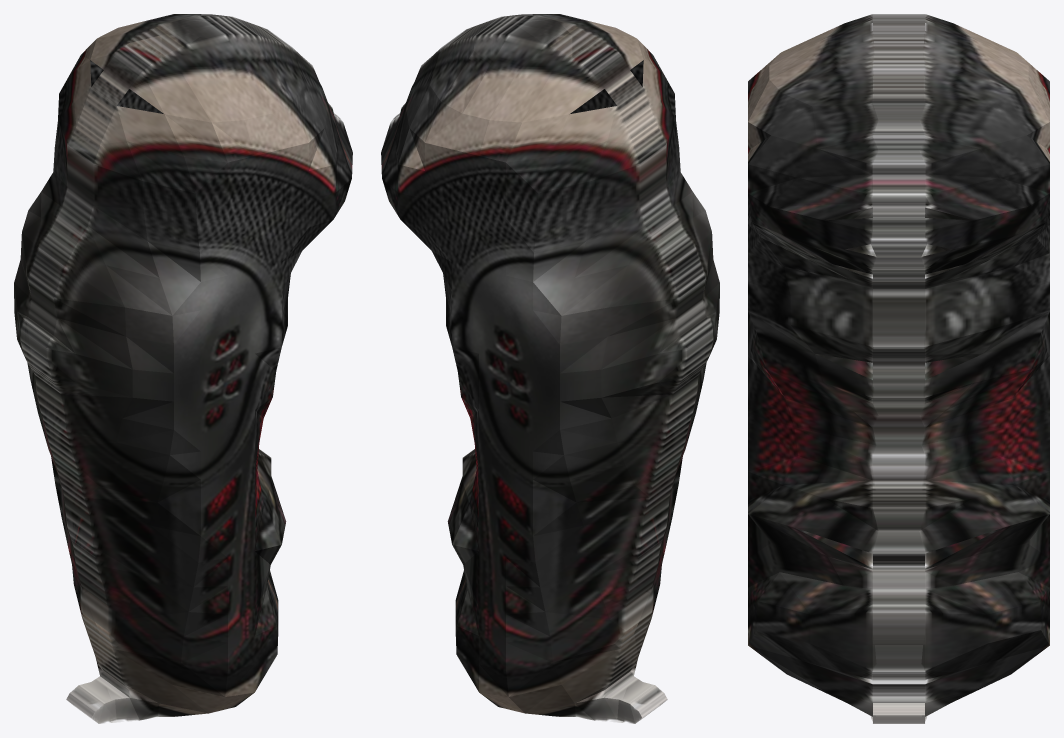
File: hjc-apex-knee-protector-157.glb
The picture shows the model from 3 angles, left to right: view 1: azimuth 30°, elevation 25°; view 2: azimuth 150°, elevation 25°; view 3: azimuth 270°, elevation 25°; orthographic projection. The views are drawn at different scales.
Visible parts, largest first — view 1: world; view 2: world; view 3: world.
Boxes of the visible parts, left/top/right/bottom form: world: left=14, top=14, right=352, bottom=723; world: left=381, top=14, right=719, bottom=723; world: left=748, top=14, right=1049, bottom=723.
Bounding box in the file's own units: 0.4661 × 1 × 0.4.
Materials: 1 (1 with a texture image).
